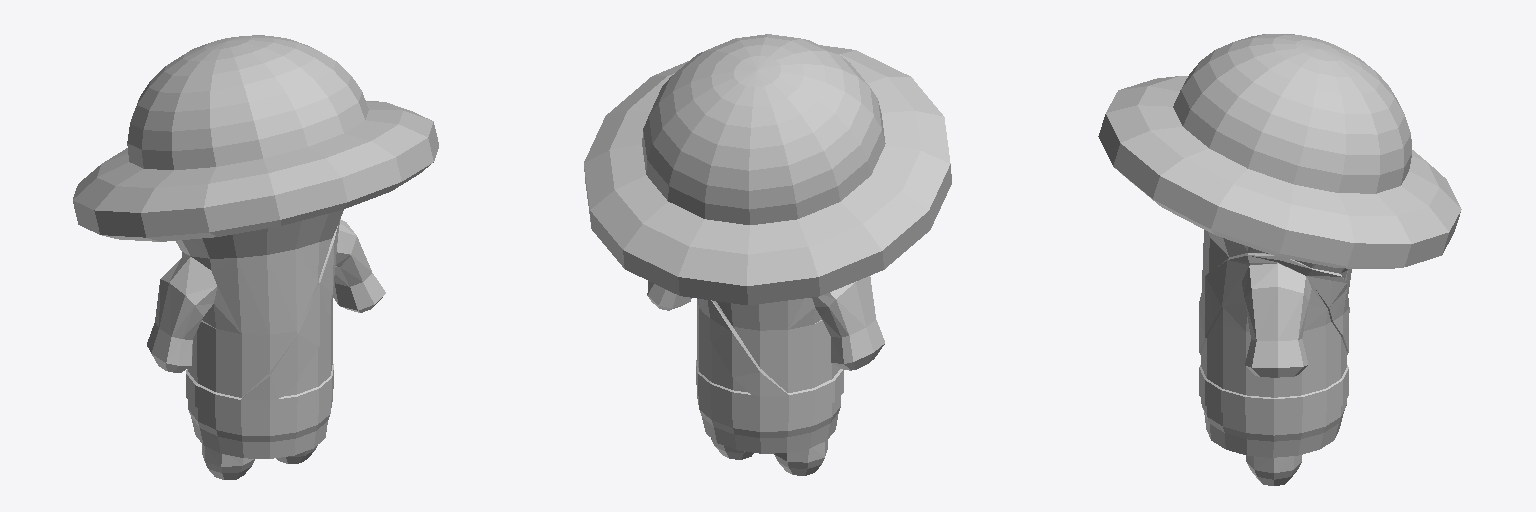
Rendered from Boxing_Shroom.obj.
3 views of the same model, side by side, from view 1: azimuth 30°, elevation 25°; view 2: azimuth 150°, elevation 25°; view 3: azimuth 270°, elevation 25° (orthographic).
Parts seen in each view (by area): view 1: Mushroom_Cylinder.001; view 2: Mushroom_Cylinder.001; view 3: Mushroom_Cylinder.001.
Part boxes in pixels (x1,y1,x2,y2): Mushroom_Cylinder.001: (73,35,438,479); Mushroom_Cylinder.001: (584,34,951,475); Mushroom_Cylinder.001: (1098,34,1461,485).
Size of the model in its own units: 6.09 by 7.52 by 5.94.